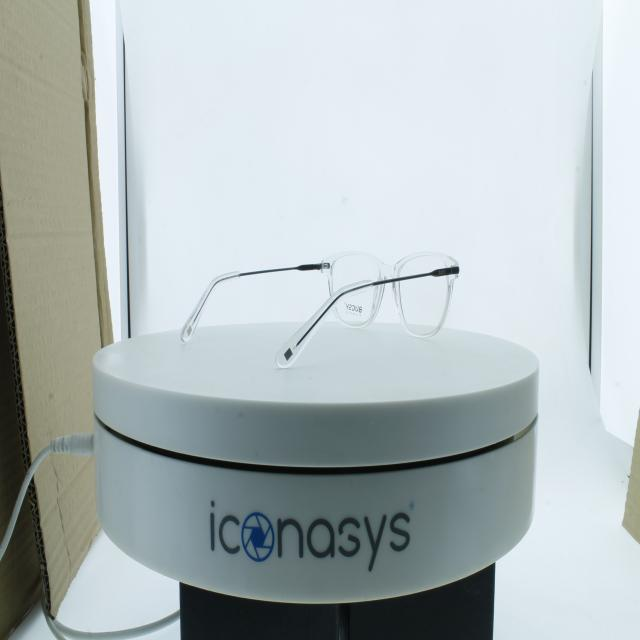Specs: (172, 238, 468, 378)
